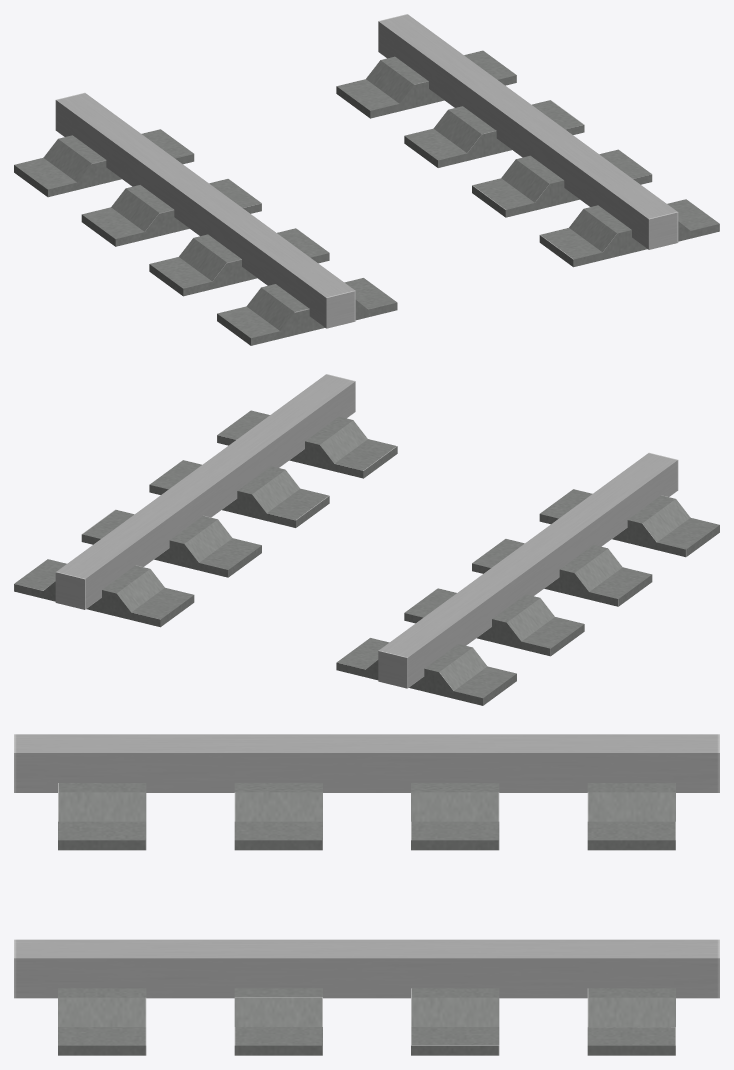
The model's file is rail_ns_straight.obj.
3 views of the same model, one above another, from view 1: azimuth 30°, elevation 25°; view 2: azimuth 150°, elevation 25°; view 3: azimuth 270°, elevation 25° (orthographic). The views are drawn at different scales.
Visible parts, largest first — view 1: r2, r1, b1, b4, b3, b2; view 2: r2, r1, b4, b1, b3, b2; view 3: r1, r2, b3, b4, b2, b1.
Boxes of the visible parts, left/top/right/bottom form: r2: left=55, top=92, right=355, bottom=328; r1: left=378, top=14, right=678, bottom=249; b1: left=217, top=199, right=719, bottom=345; b4: left=14, top=50, right=516, bottom=197; b3: left=81, top=100, right=584, bottom=246; b2: left=149, top=149, right=652, bottom=296; r2: left=378, top=452, right=678, bottom=688; r1: left=55, top=374, right=355, bottom=609; b4: left=14, top=559, right=516, bottom=705; b1: left=217, top=410, right=719, bottom=557; b3: left=81, top=509, right=584, bottom=656; b2: left=149, top=460, right=652, bottom=606; r1: left=14, top=939, right=719, bottom=998; r2: left=14, top=734, right=719, bottom=792; b3: left=411, top=783, right=499, bottom=1055; b4: left=587, top=783, right=675, bottom=1055; b2: left=234, top=783, right=322, bottom=1055; b1: left=58, top=783, right=146, bottom=1055.
Bounding box in the file's own units: 1 × 0.0938 × 1.
